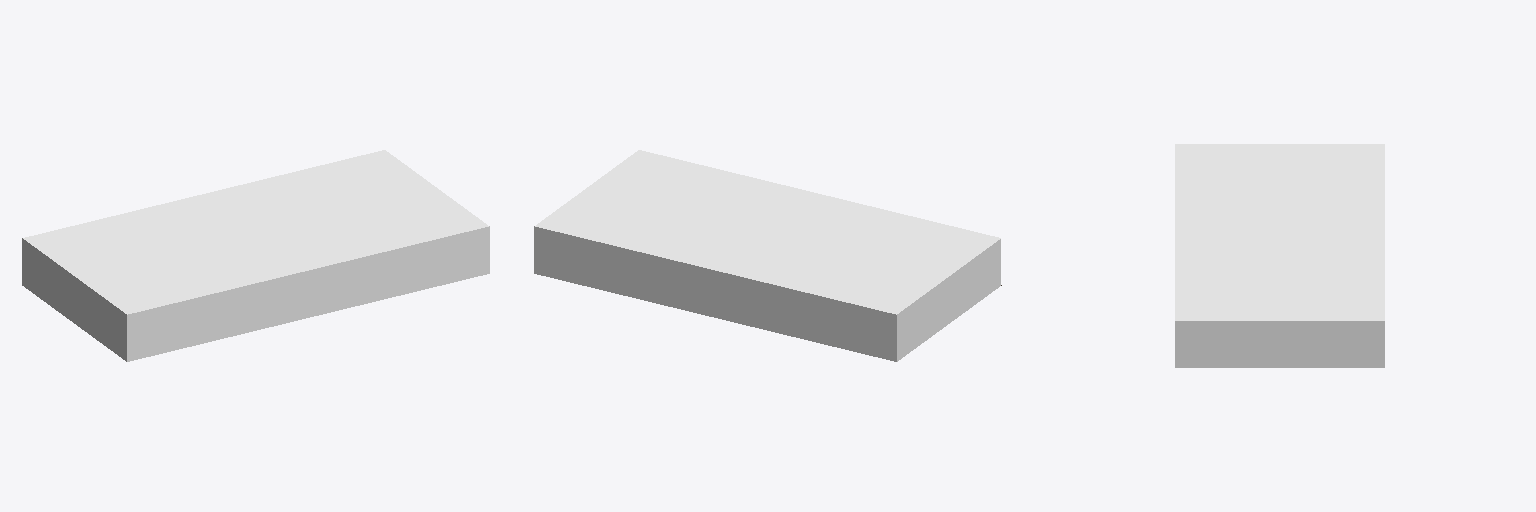
Rendered from block.obj.
3 views of the same model, side by side, from view 1: azimuth 30°, elevation 25°; view 2: azimuth 150°, elevation 25°; view 3: azimuth 270°, elevation 25° (orthographic).
Visible parts, largest first — view 1: Mesh2 Model; view 2: Mesh2 Model; view 3: Mesh2 Model.
Boxes of the visible parts, box(x1,y1,x2,y2) form: Mesh2 Model: box(22, 150, 489, 361); Mesh2 Model: box(534, 150, 1000, 361); Mesh2 Model: box(1175, 144, 1384, 367).
Bounding box in the file's own units: 512 × 64 × 256.